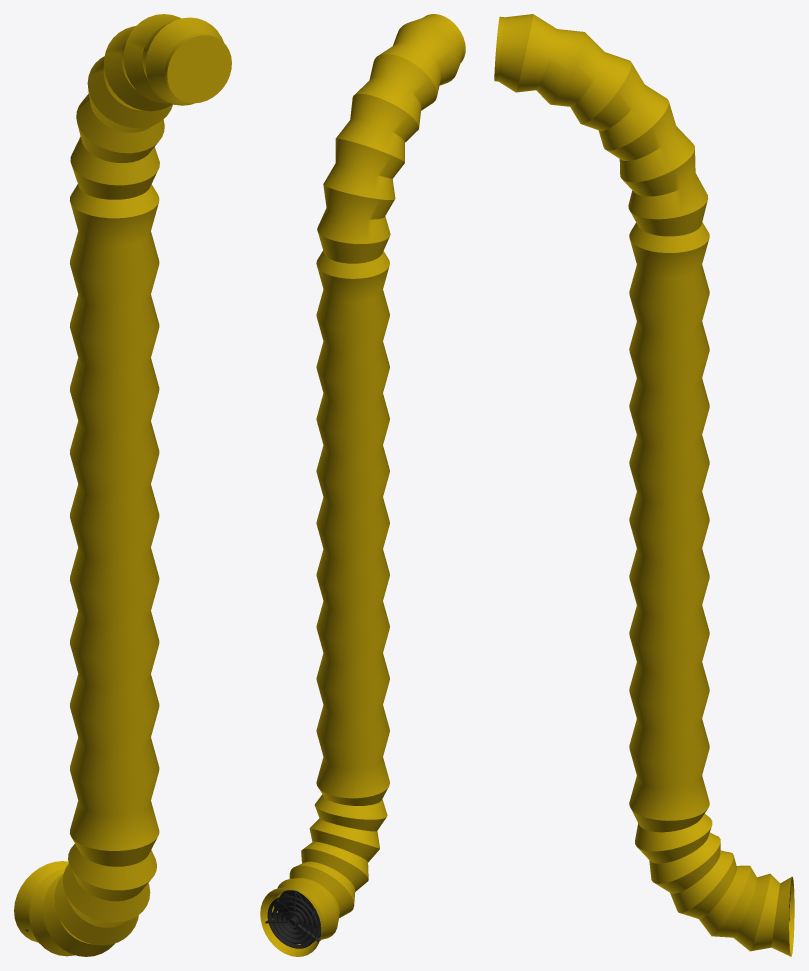
Rendered from Light.fbx.
3 renders of one model, left to right at view 1: azimuth 30°, elevation 25°; view 2: azimuth 150°, elevation 25°; view 3: azimuth 270°, elevation 25°, orthographic. The views are drawn at different scales.
Visible parts, largest first — view 1: defaultMaterial.002; view 2: defaultMaterial.002; view 3: defaultMaterial.002.
Part boxes in pixels (x1,y1,x2,y2): defaultMaterial.002: [14, 14, 231, 956]; defaultMaterial.002: [260, 14, 465, 956]; defaultMaterial.002: [494, 14, 794, 956].
Size of the model in its own units: 36.7 by 383 by 112.
